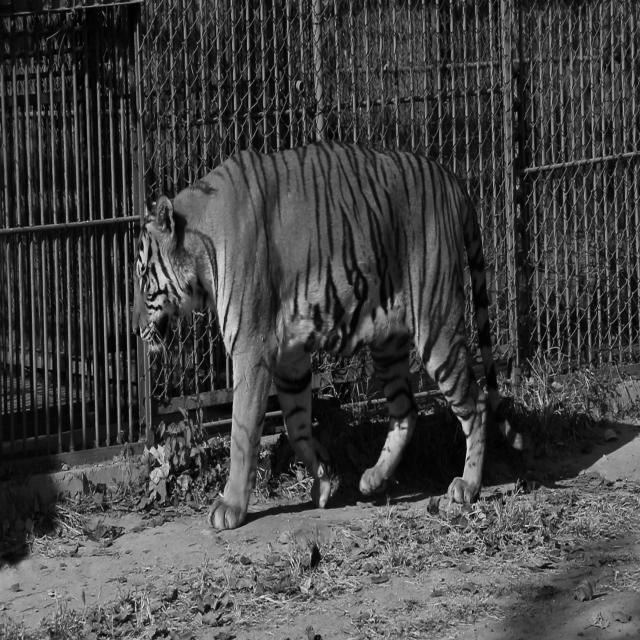Tiger: (131, 137, 524, 531)
